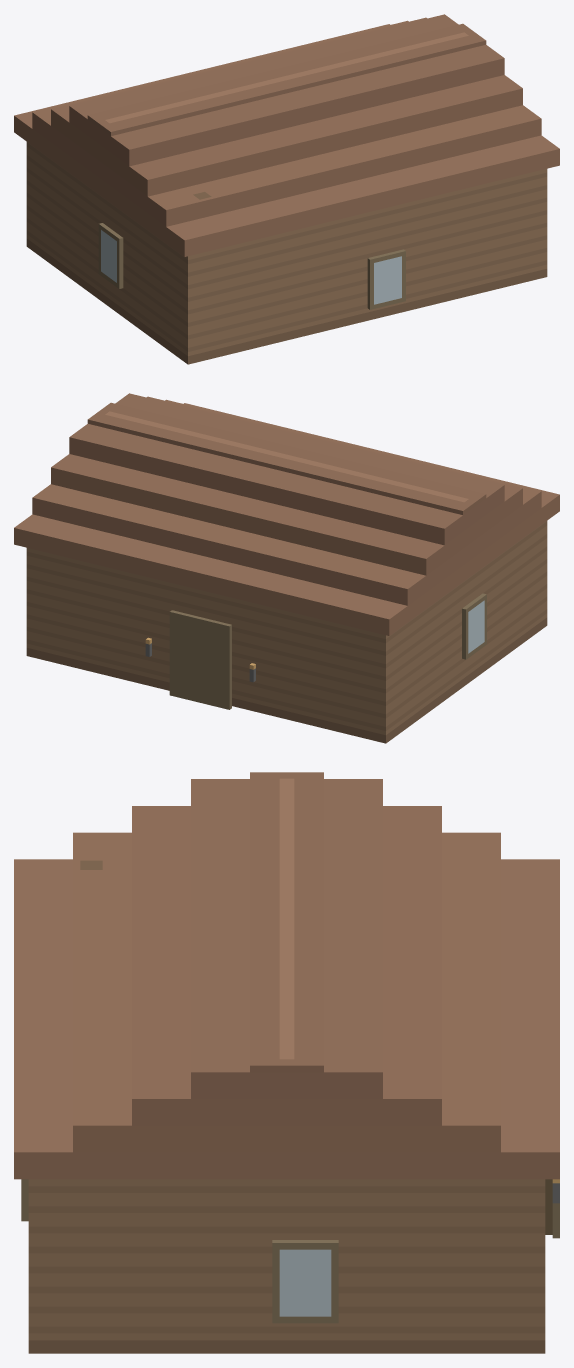
Rendered from curtiduria_02.glb.
3 renders of one model, top to bottom at view 1: azimuth 30°, elevation 25°; view 2: azimuth 150°, elevation 25°; view 3: azimuth 270°, elevation 25°, orthographic. The views are drawn at different scales.
Visible parts, largest first — view 1: curtiduria_02; view 2: curtiduria_02; view 3: curtiduria_02.
Part boxes in pixels (x1=…): curtiduria_02: x1=14, y1=14, x2=559, y2=364; curtiduria_02: x1=14, y1=393, x2=559, y2=743; curtiduria_02: x1=14, y1=772, x2=559, y2=1353.
Bounding box in the file's own units: 9.4 × 4.4 × 7.4.
